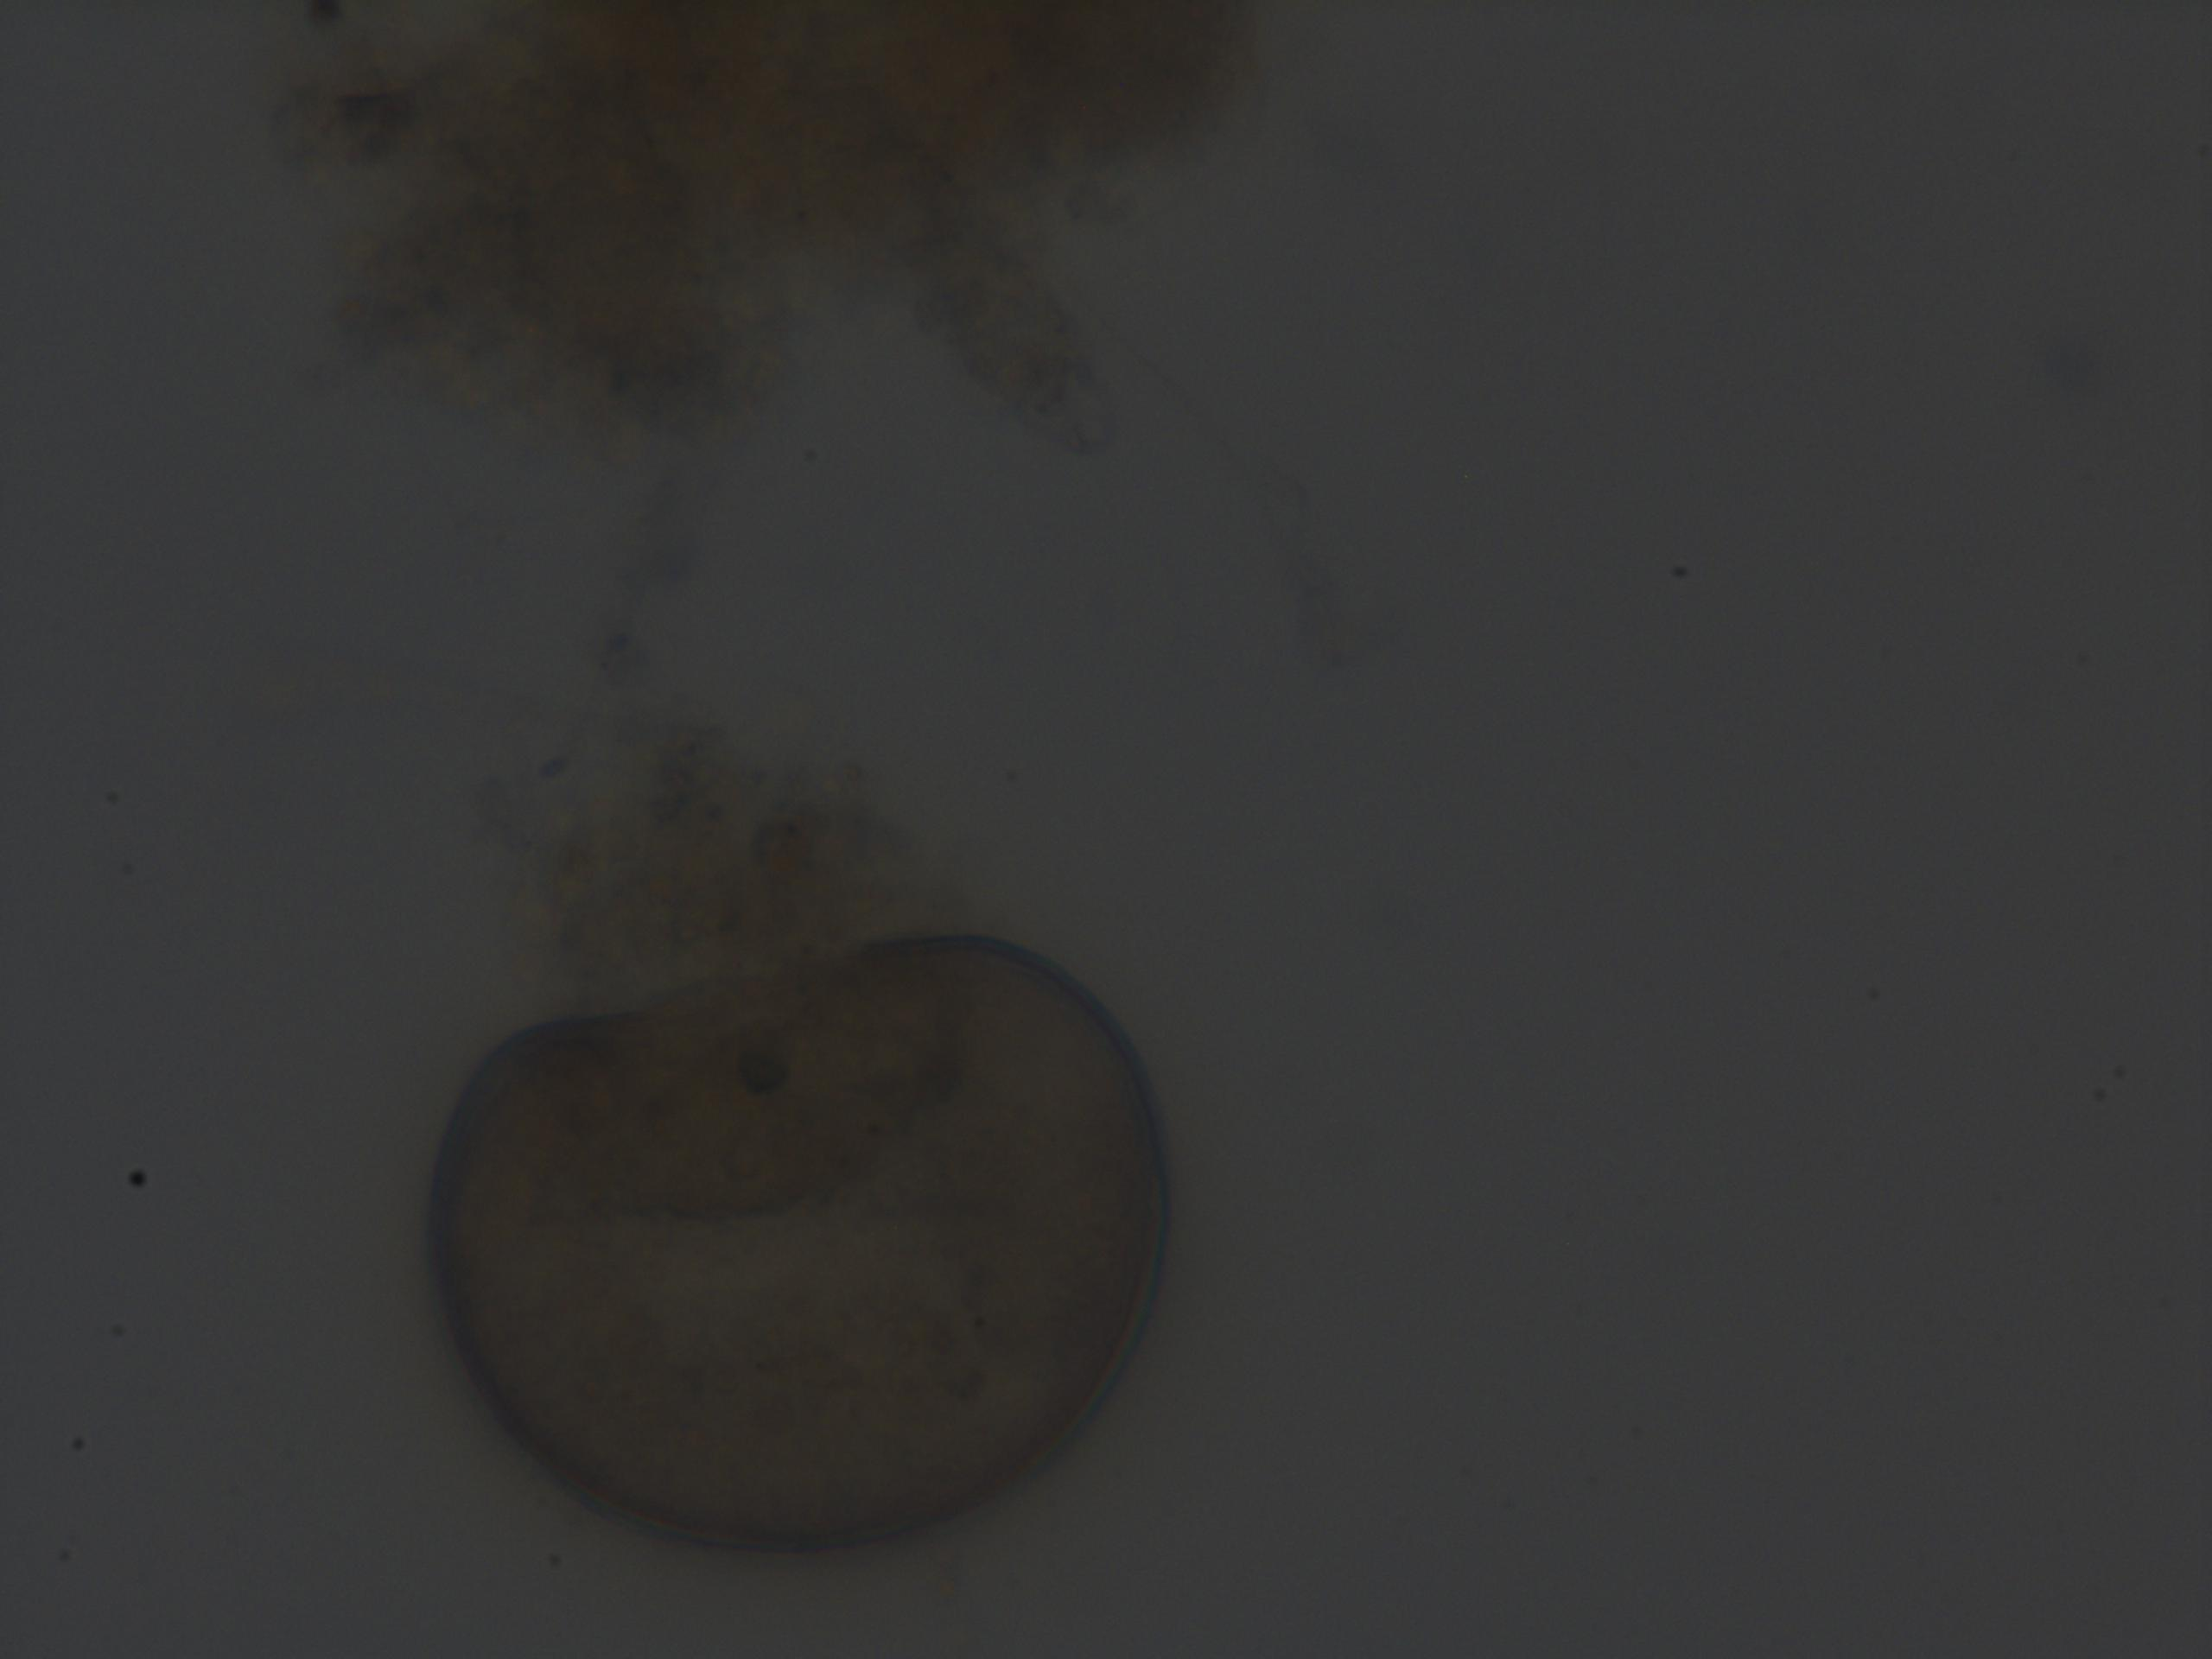protozoa: (413, 929, 1184, 1567)
